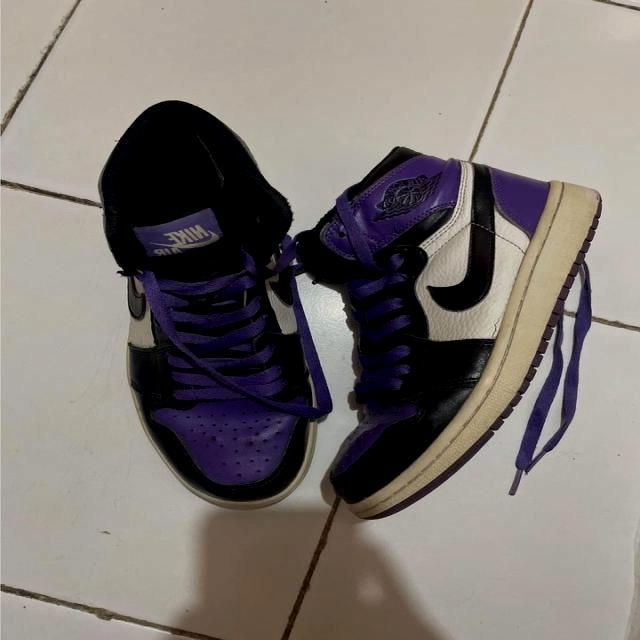nike_fake_jordan: (88, 101, 317, 505)
nike_original_jordan: (289, 148, 617, 404)
